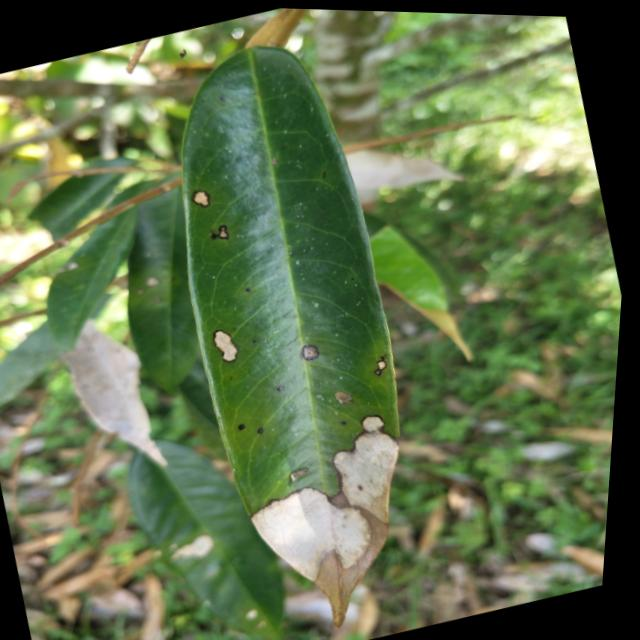Leaf Blight: (240, 449, 429, 640), (298, 388, 436, 533), (182, 172, 253, 246), (208, 305, 258, 370)
